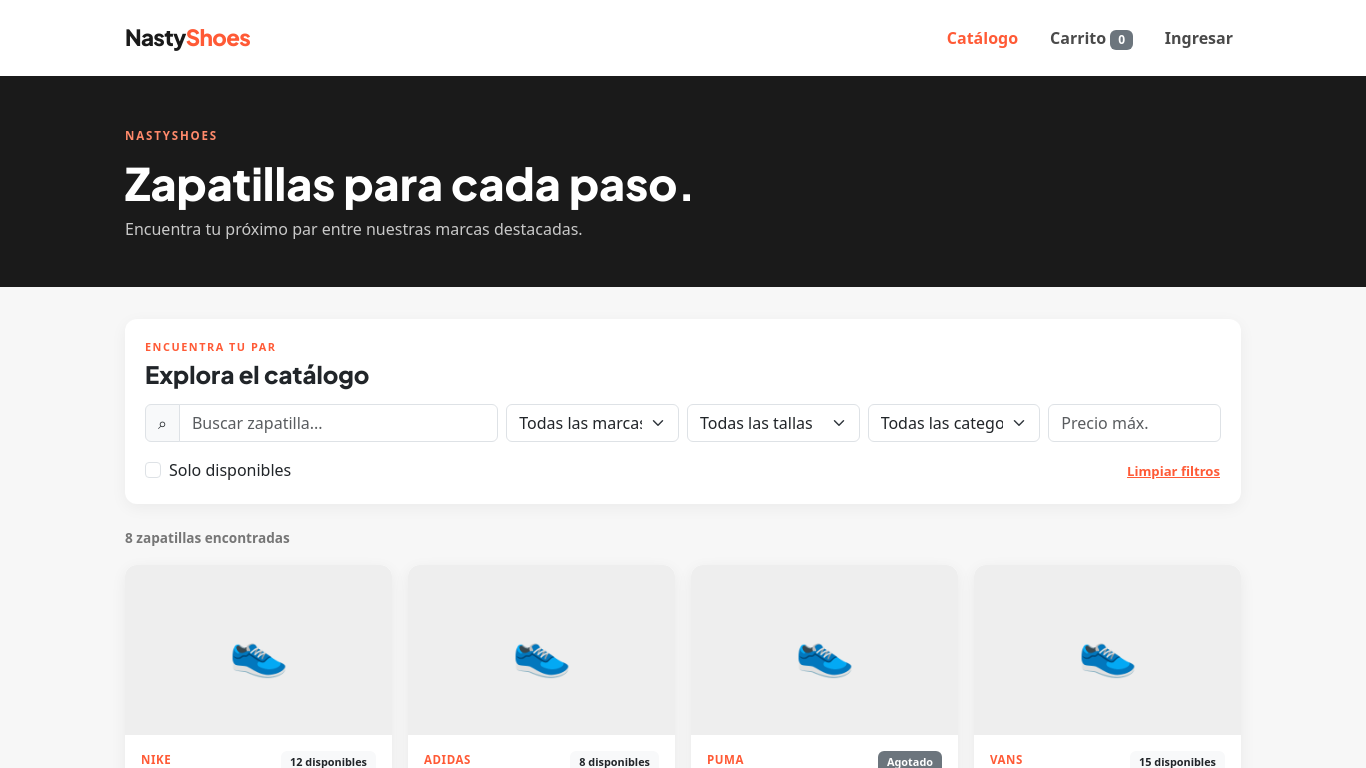
App › filtra el catálogo por texto de búsqueda
This screenshot has width=1366, height=768.
In the search field named "buscar zapatillas": (339, 424) [179,404,498,442], type "zapatilla 1"
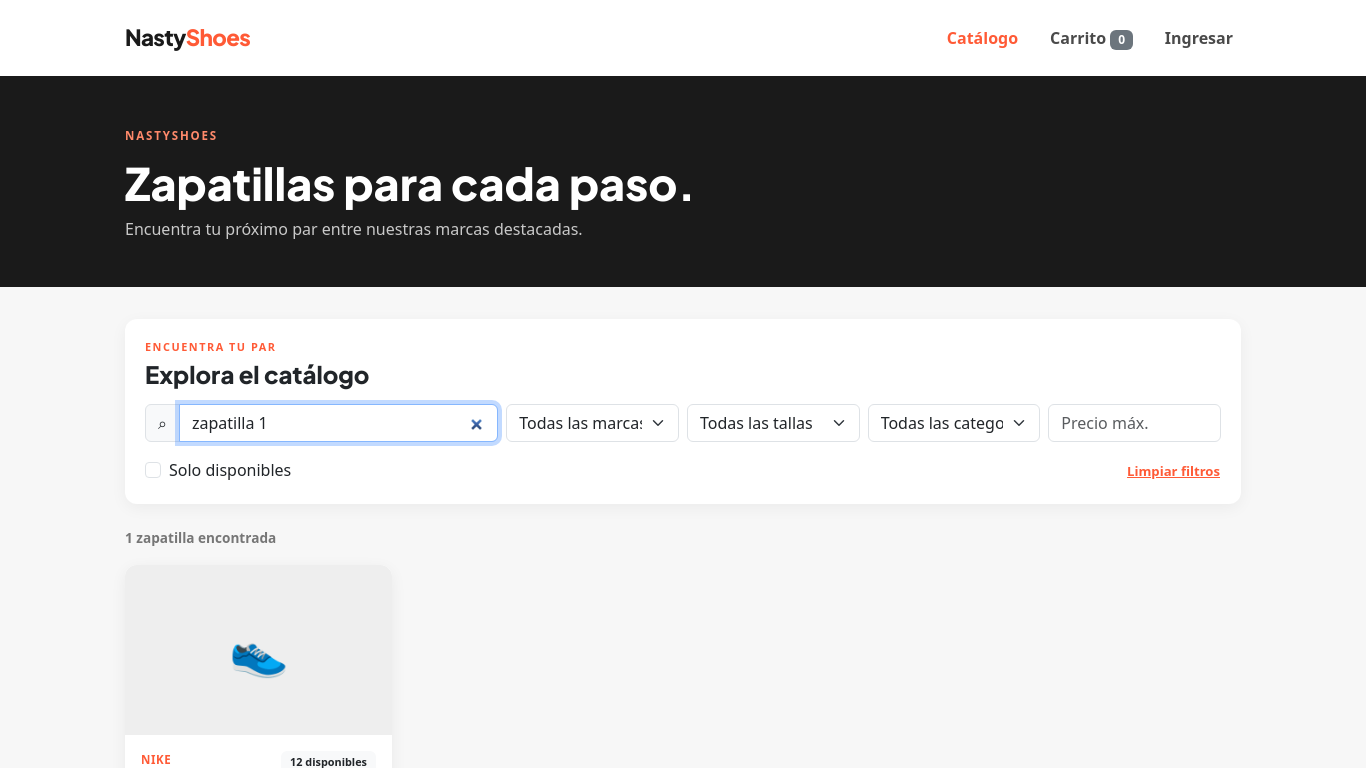
Now the text "1 zapatilla encontrada" is shown, box [125,528,276,548]
